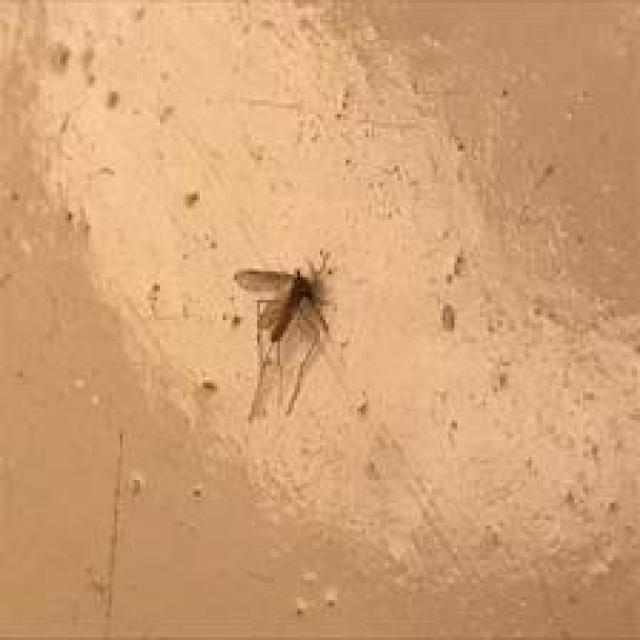Culex: (231, 251, 343, 423)
